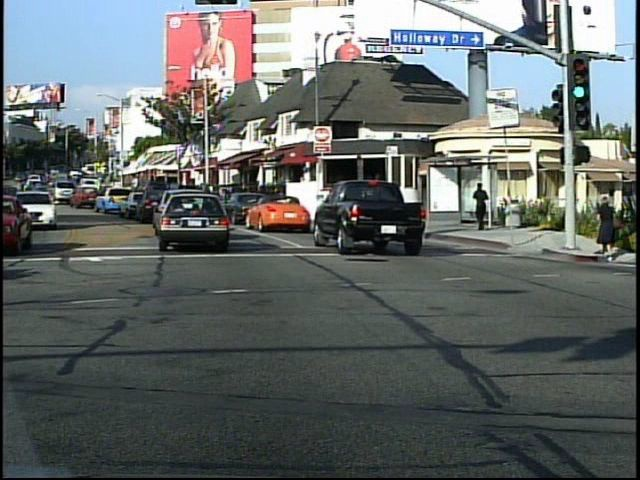person: (596, 193, 621, 261), (469, 181, 491, 236)
